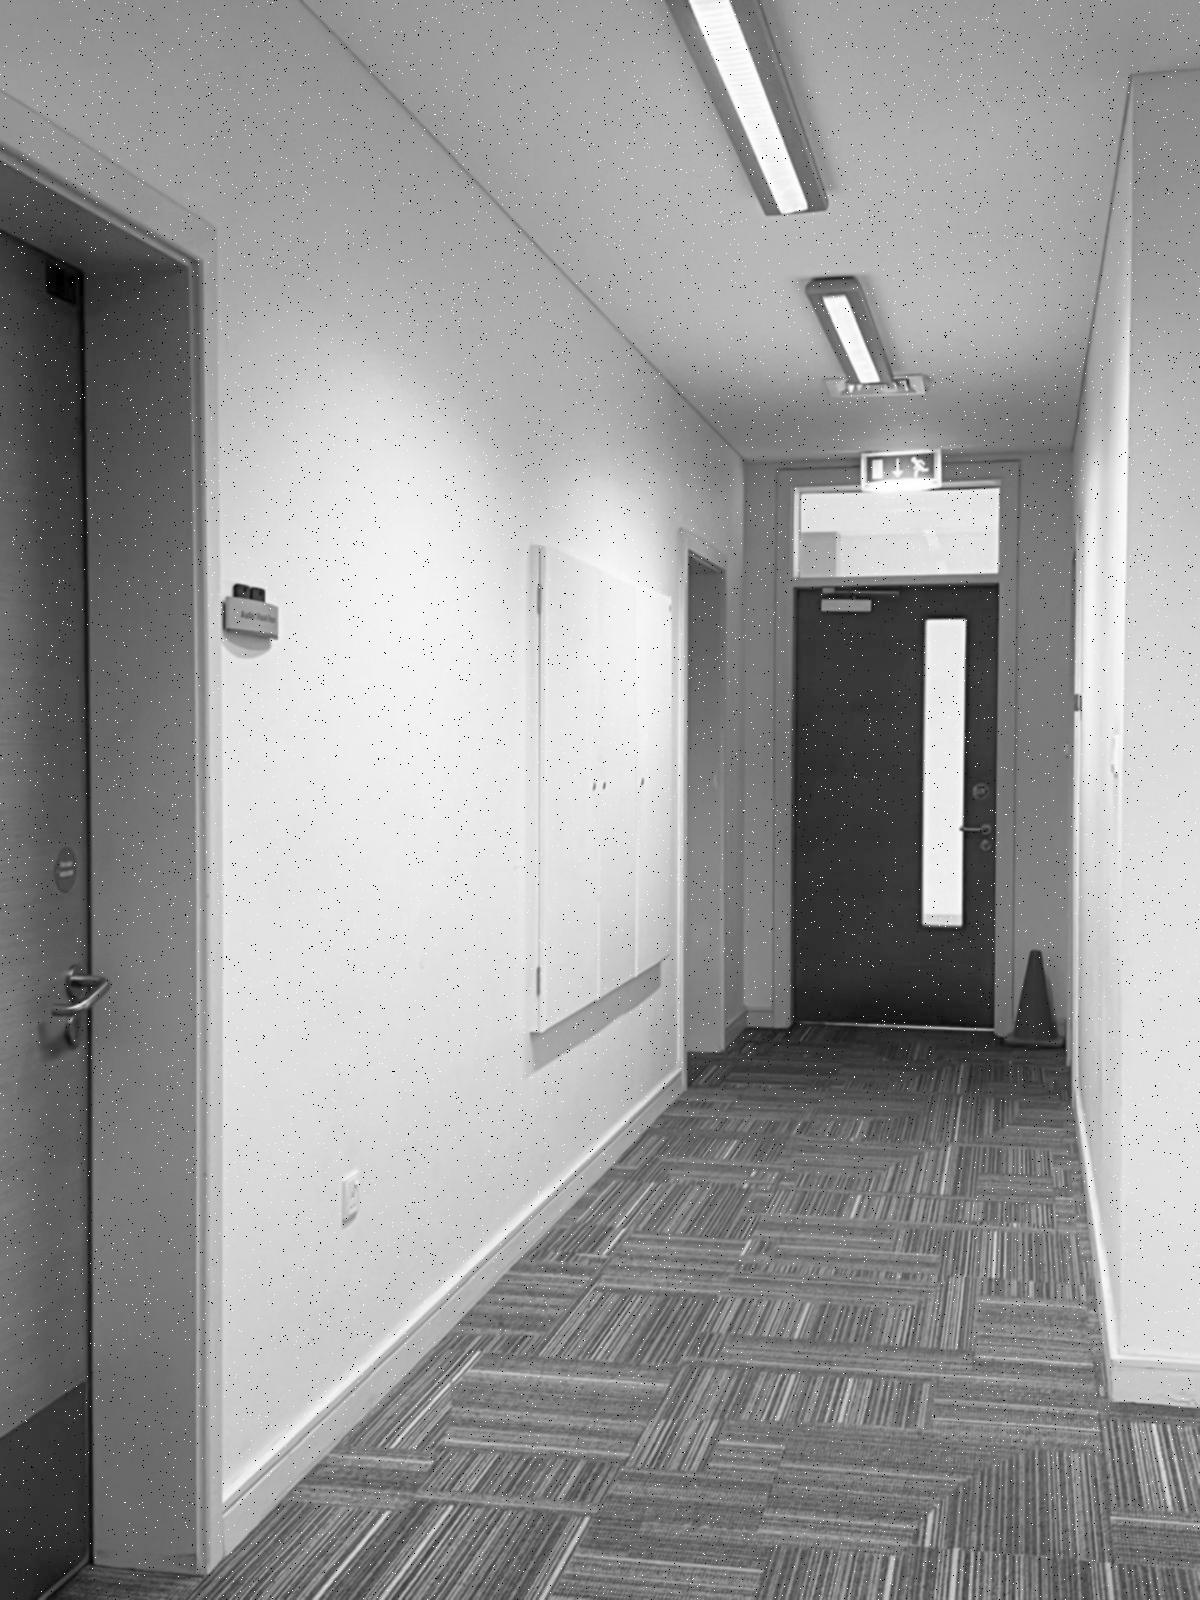Wall: (1068, 78, 1199, 1402)
